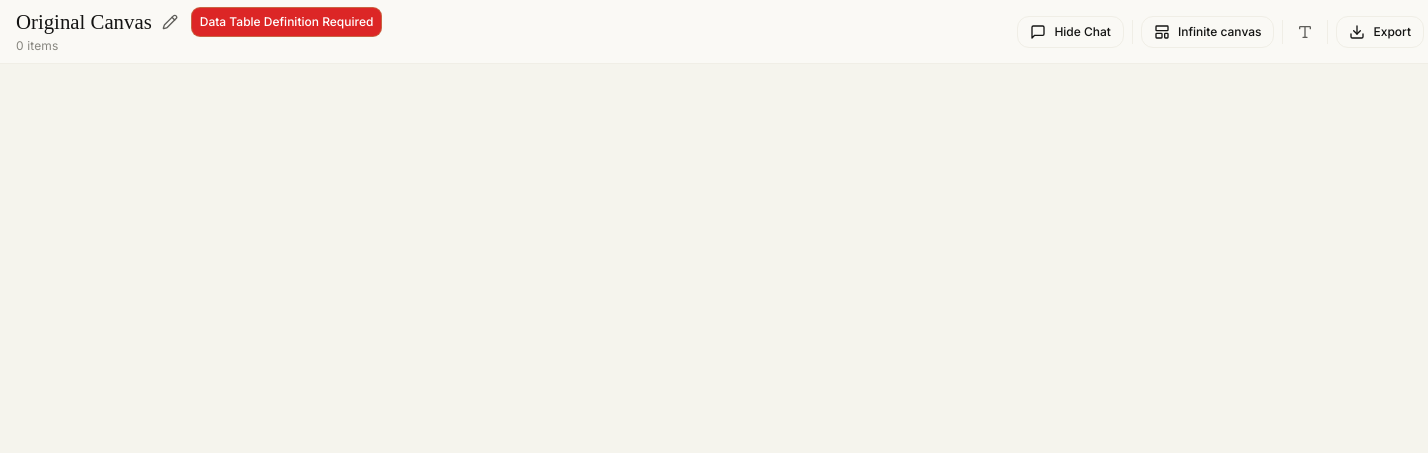
Test: WorkspaceToolbar › switches the workspace canvas format from the toolbar
The image size is (1428, 453).
Click the button with aria-label "Canvas size": (1208, 32) [1141,16,1274,48]
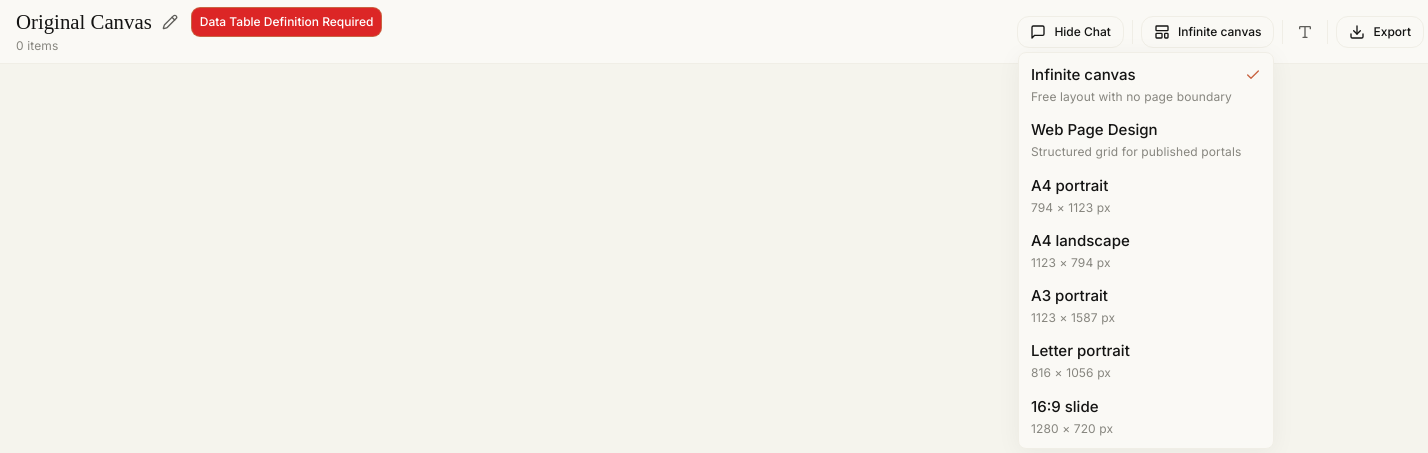
Click the text "A4 landscape": (1080, 241) [1031,229,1130,253]
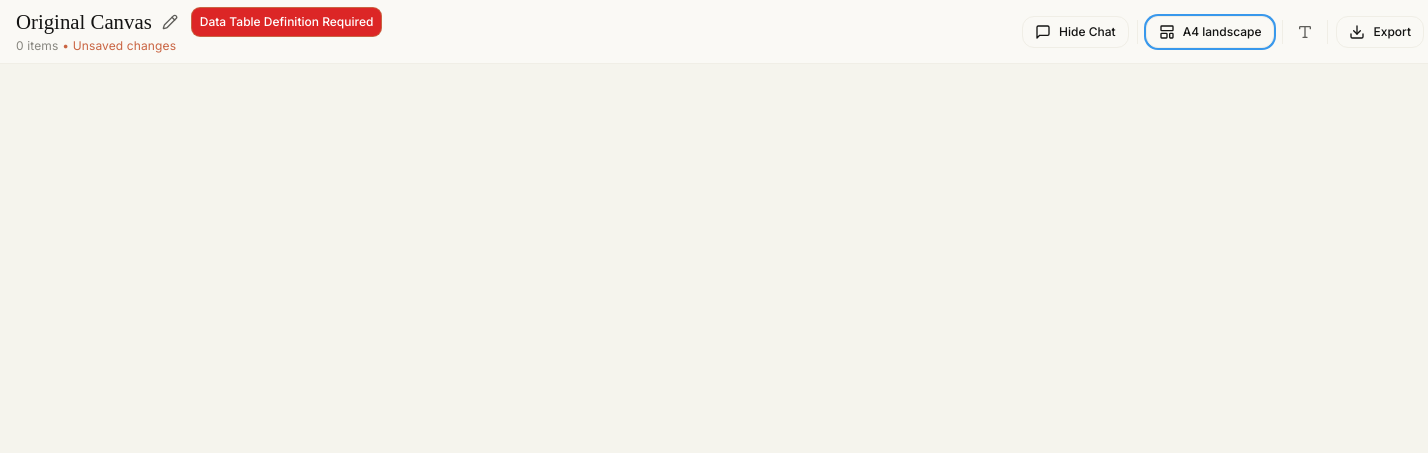
Result: the text "A4 landscape" is shown at [1183,24,1261,40]
